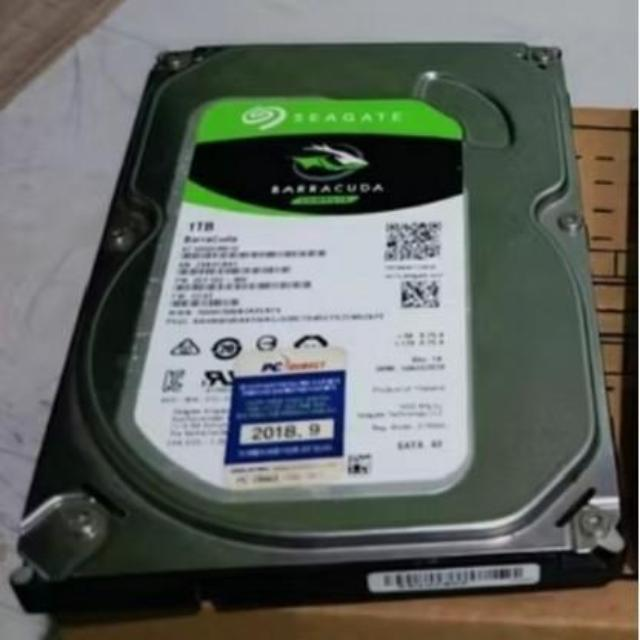DISK: (6, 33, 628, 607)
